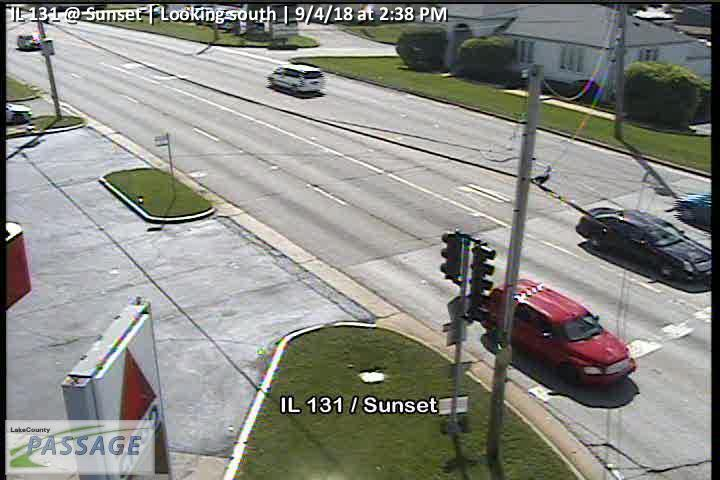SUV: (488, 276, 636, 389), (268, 62, 324, 95)
Sedan: (575, 206, 716, 292)
